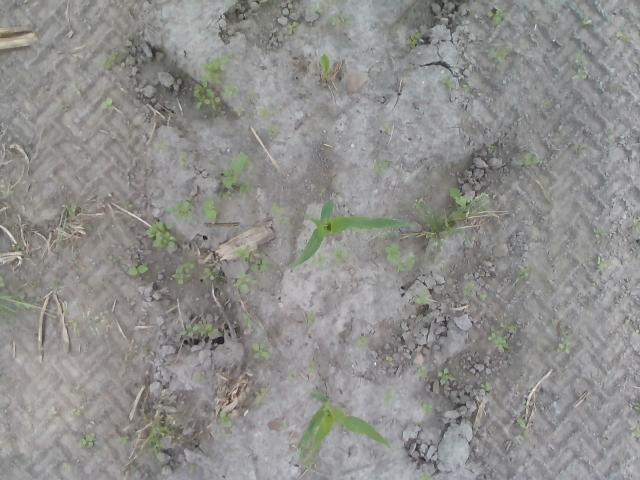Maize: (291, 198, 406, 266), (300, 390, 394, 454)
Weeds: (193, 48, 246, 120), (414, 186, 489, 232), (218, 150, 255, 200), (144, 424, 176, 464), (160, 196, 200, 224), (234, 246, 272, 274), (312, 248, 351, 273), (487, 321, 518, 352), (144, 220, 176, 250), (384, 243, 416, 272), (0, 291, 31, 320), (111, 255, 149, 278), (177, 320, 224, 337), (510, 151, 546, 170), (95, 50, 126, 72), (174, 258, 198, 286), (462, 280, 488, 304), (486, 4, 510, 30), (574, 48, 592, 80), (233, 271, 258, 293), (202, 193, 220, 221), (430, 233, 450, 256), (61, 199, 80, 222), (556, 328, 572, 354), (270, 201, 288, 224), (327, 14, 352, 30), (252, 342, 273, 361), (319, 53, 333, 81), (438, 366, 456, 386), (256, 106, 278, 122), (0, 177, 15, 200), (496, 45, 514, 64), (514, 264, 534, 281), (253, 386, 270, 406), (514, 418, 529, 440), (575, 8, 593, 26), (303, 446, 317, 469), (591, 255, 609, 272), (414, 287, 432, 304), (79, 432, 96, 450), (382, 389, 398, 408), (303, 310, 318, 329), (152, 138, 172, 152), (304, 3, 324, 17), (415, 364, 431, 381), (375, 159, 390, 177), (219, 410, 234, 428), (206, 270, 224, 285), (630, 214, 640, 240), (408, 31, 423, 48), (615, 30, 633, 44), (266, 125, 282, 140), (46, 407, 62, 422), (353, 334, 368, 350), (440, 78, 456, 92), (242, 312, 254, 330), (421, 402, 435, 416), (286, 21, 300, 35), (178, 152, 190, 168), (50, 272, 61, 289), (479, 382, 492, 396), (70, 80, 82, 95), (31, 276, 44, 289), (8, 240, 22, 252), (385, 352, 397, 366), (593, 228, 608, 239), (101, 97, 113, 109), (286, 370, 298, 382), (246, 89, 256, 103), (419, 470, 433, 480), (86, 223, 98, 234), (71, 320, 80, 334), (0, 274, 7, 291), (308, 360, 318, 370), (632, 430, 640, 442), (487, 144, 497, 153), (143, 344, 153, 353), (119, 435, 128, 445), (630, 402, 640, 410), (72, 408, 80, 416), (320, 191, 326, 197)
